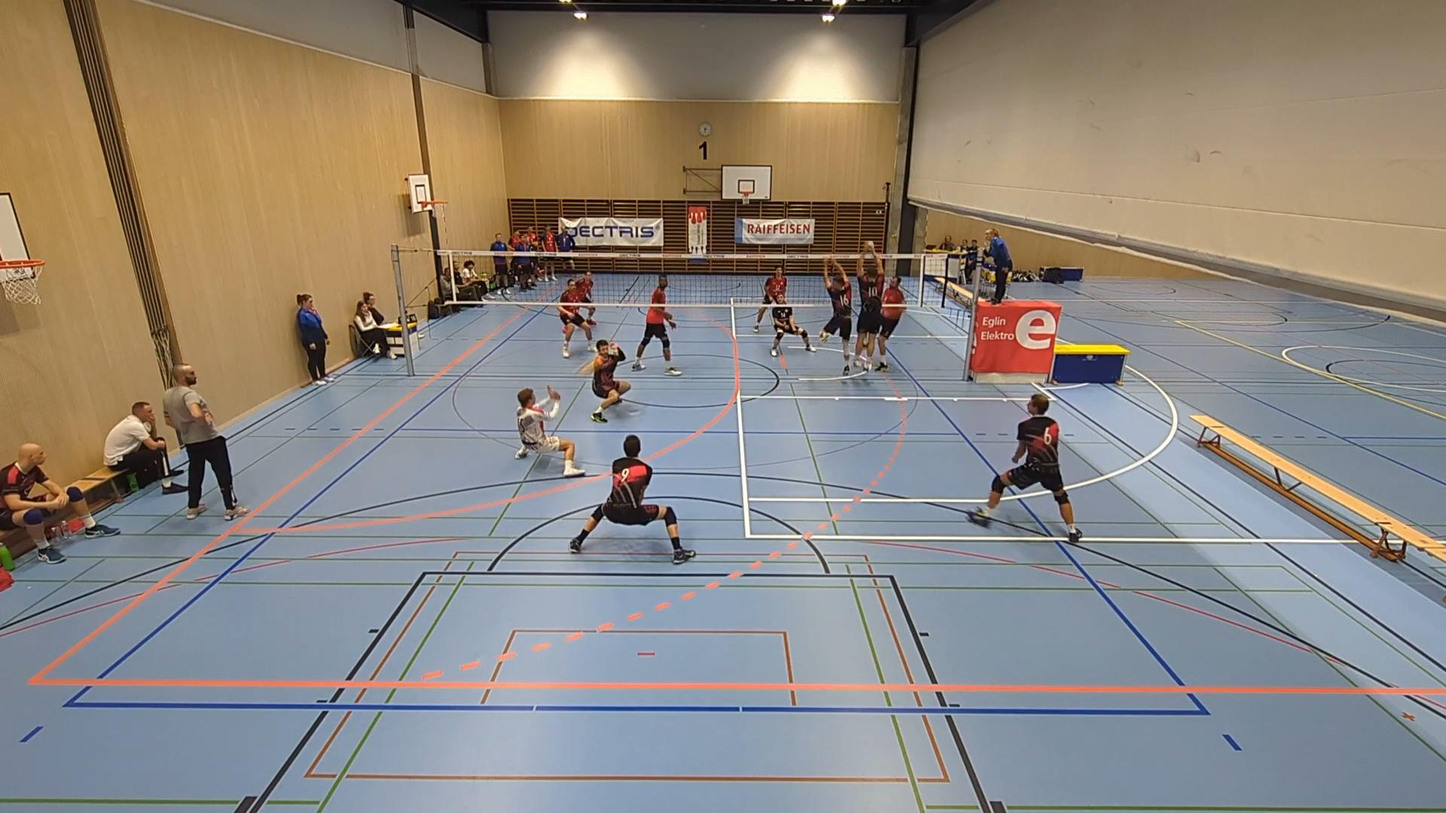Block: (814, 251, 856, 374), (853, 250, 890, 375)
Player: (969, 394, 1081, 543), (569, 435, 695, 563), (515, 386, 584, 477), (632, 275, 681, 376), (578, 340, 630, 422), (770, 294, 816, 356), (557, 279, 592, 358), (877, 276, 905, 371), (753, 266, 786, 332), (577, 269, 594, 303)
ball: (861, 235, 880, 250)
